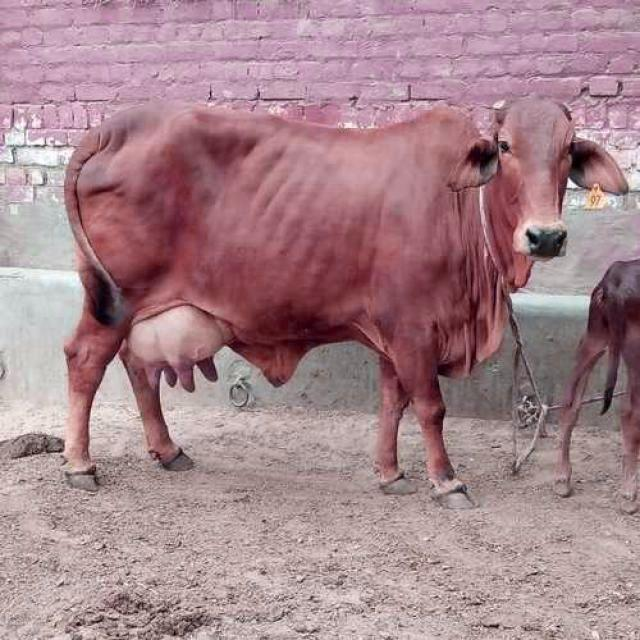cow: (65, 98, 628, 507)
